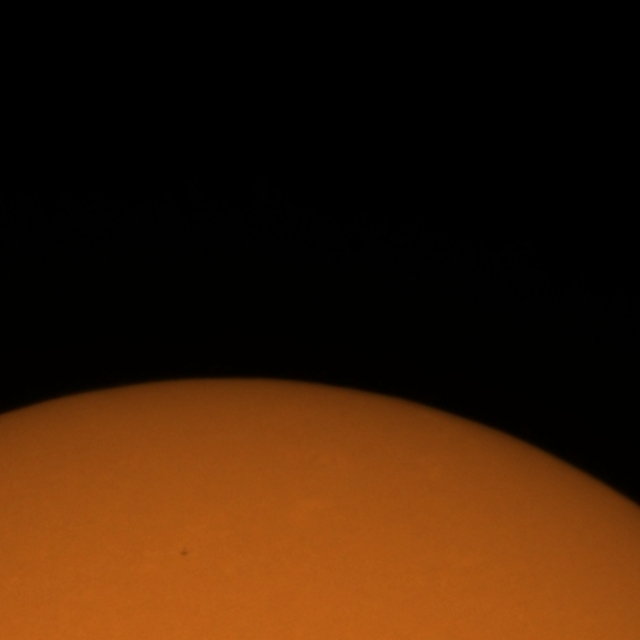sunspot: (179, 548, 190, 558)
